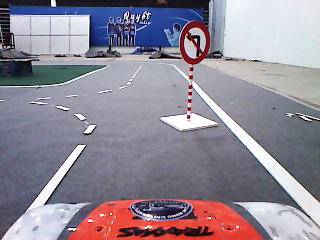ban: (178, 20, 211, 65)
